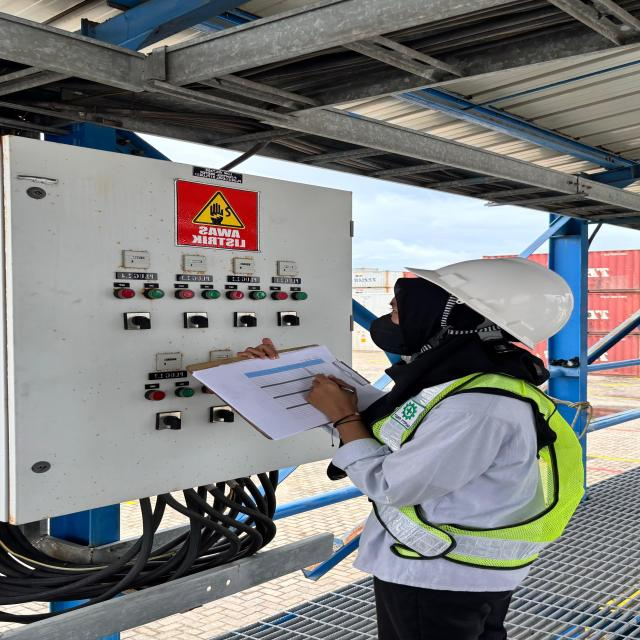safetyhelmet: (338, 256, 588, 393)
